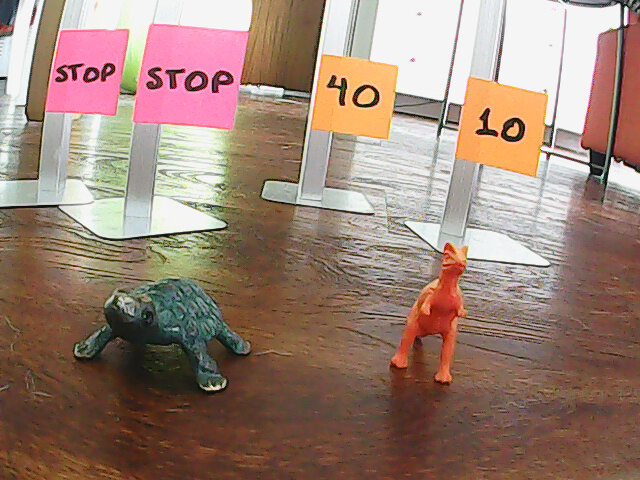10: (464, 93, 541, 158)
40: (320, 64, 388, 127)
dinosaur: (387, 239, 475, 393)
stop: (141, 40, 240, 123), (50, 42, 119, 105)
turtle: (69, 269, 259, 401)
